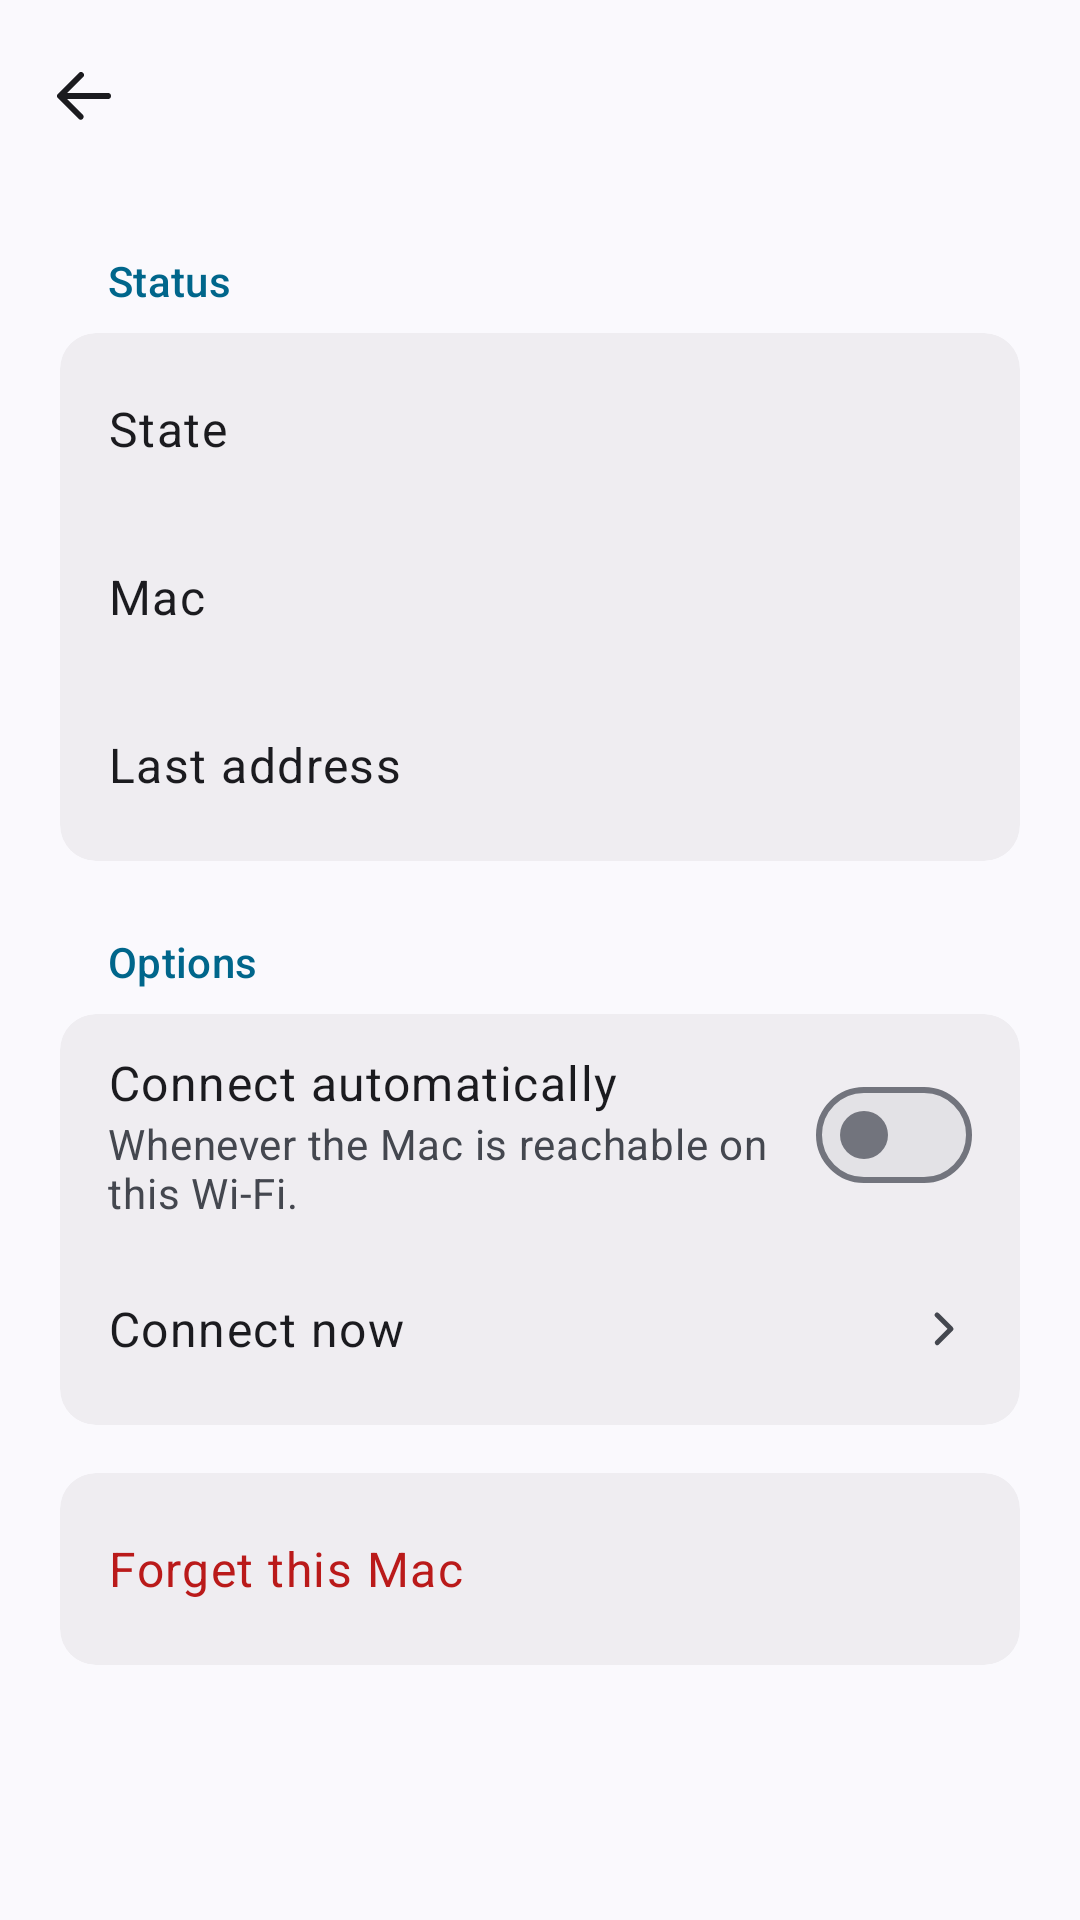

Screen size 1080 × 1920. Icon name, then its box in pixels as (x1, y1, x2, y2):
Back: (57, 72, 111, 120)
chevron: (934, 1312, 954, 1346)
